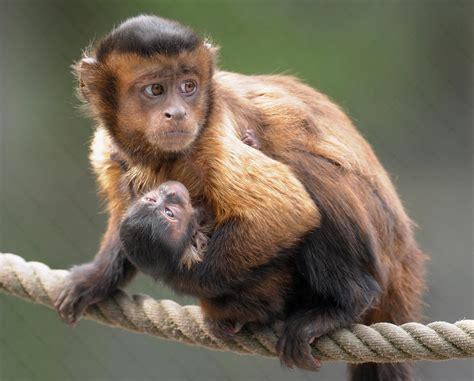monkey: (58, 17, 417, 369)
